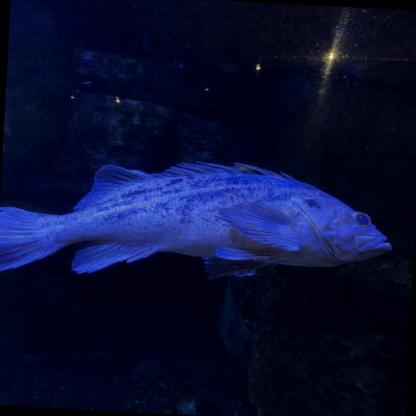fish: (0, 142, 398, 314)
